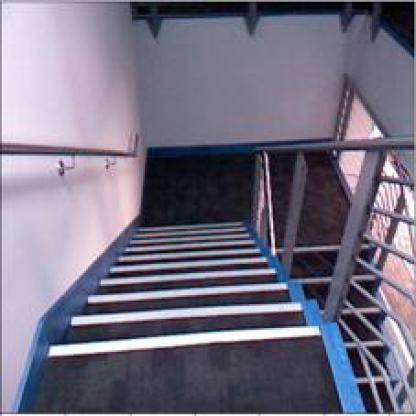stair_down: (33, 260, 319, 387)
